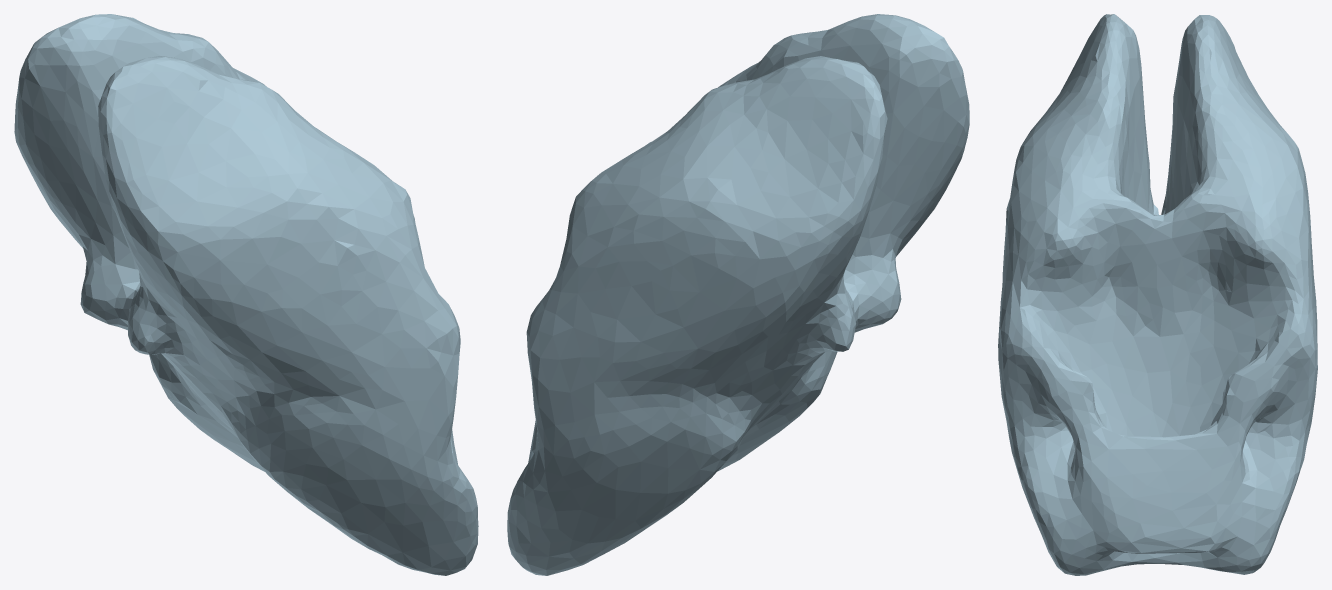
3 renders of one model, left to right at view 1: azimuth 30°, elevation 25°; view 2: azimuth 150°, elevation 25°; view 3: azimuth 270°, elevation 25°, orthographic. The views are drawn at different scales.
Parts seen in each view (by area): view 1: 275.obj; view 2: 275.obj; view 3: 275.obj.
Boxes of the visible parts, x1,y1,x2,y2 form: 275.obj: (14,14,478,575); 275.obj: (507,14,969,575); 275.obj: (998,14,1317,575).
Bounding box in the file's own units: 2036 × 2946 × 1918.
